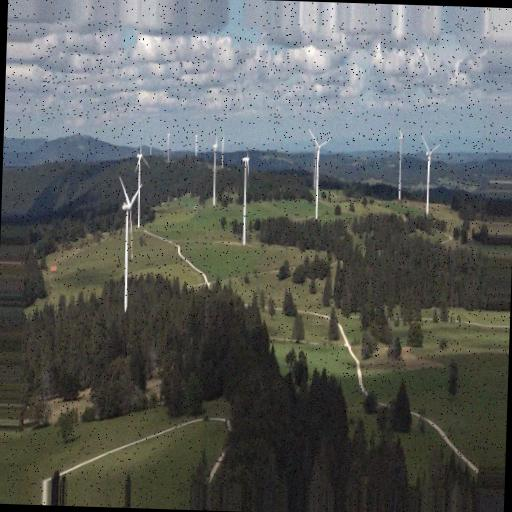wind turbine: (117, 176, 142, 312), (307, 128, 332, 222), (421, 138, 443, 215), (134, 137, 151, 228), (240, 146, 250, 243)
